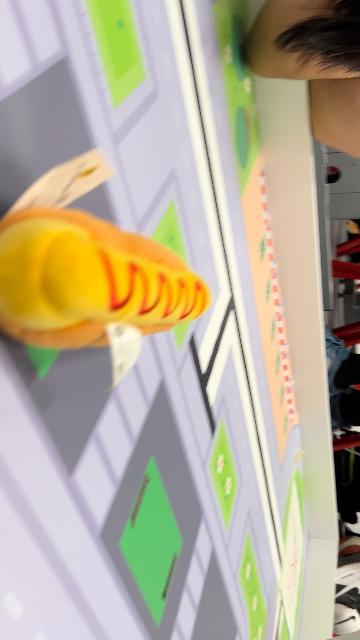hotdog: (1, 207, 212, 351)
